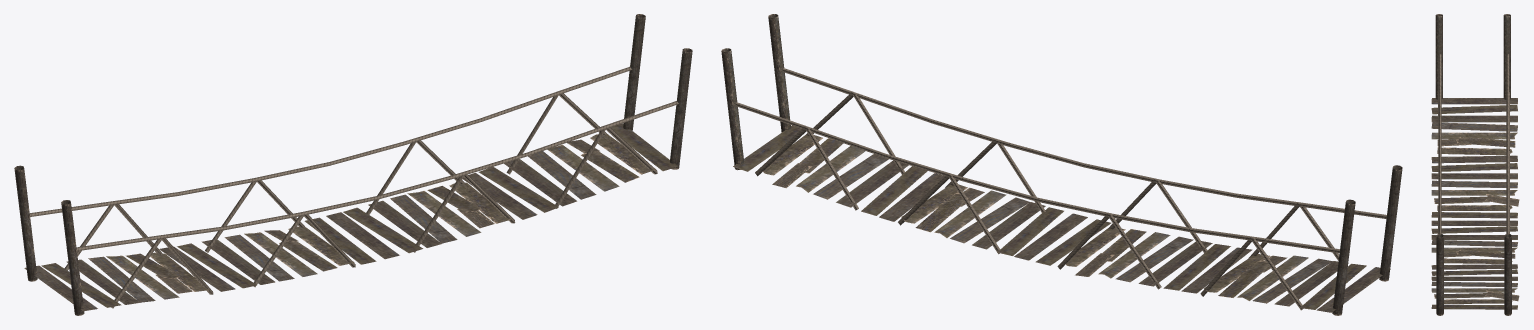
Rendered from Scaffolding_BridgeSmall.fbx.
The picture shows the model from 3 angles, left to right: view 1: azimuth 30°, elevation 25°; view 2: azimuth 150°, elevation 25°; view 3: azimuth 270°, elevation 25°; orthographic projection. The views are drawn at different scales.
Parts seen in each view (by area): view 1: CDTMesh_Scaffolding_BridgeSmall_LOD; view 2: CDTMesh_Scaffolding_BridgeSmall_LOD; view 3: CDTMesh_Scaffolding_BridgeSmall_LOD.
Boxes of the visible parts, x1,y1,x2,y2 form: CDTMesh_Scaffolding_BridgeSmall_LOD: (14, 14, 692, 315); CDTMesh_Scaffolding_BridgeSmall_LOD: (721, 14, 1402, 315); CDTMesh_Scaffolding_BridgeSmall_LOD: (1431, 14, 1519, 315).
Bounding box in the file's own units: 20.74 × 4.31 × 3.45.
